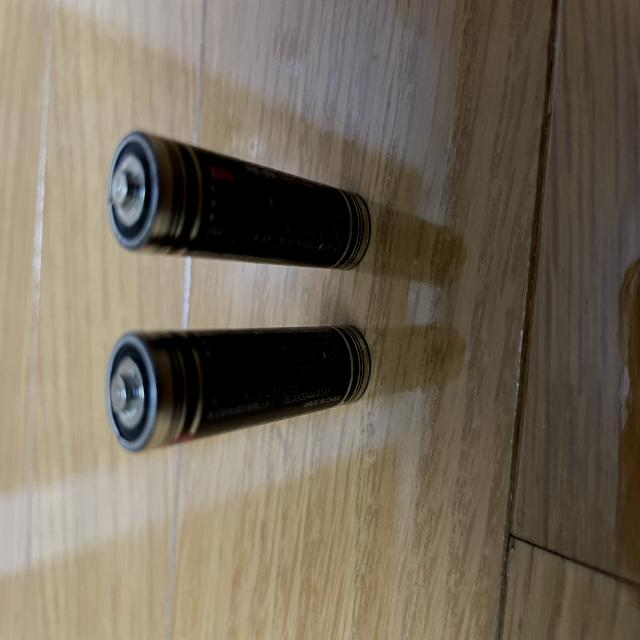AA: (66, 120, 394, 288), (94, 316, 393, 458)
